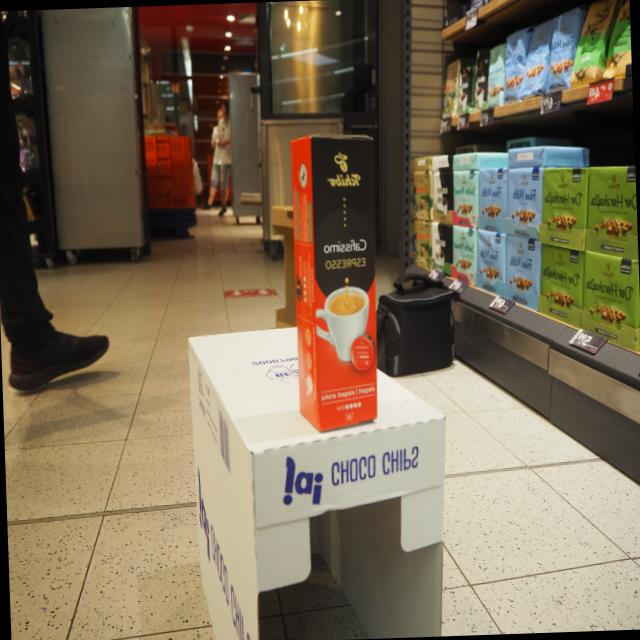Simo Es Elegant: (285, 133, 381, 437)
